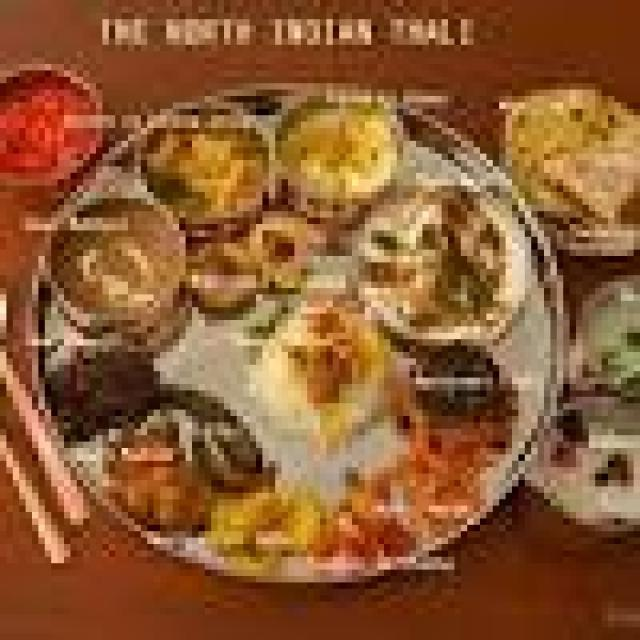roti: (501, 92, 634, 254)
sweet: (6, 74, 110, 204)
